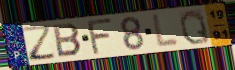8: (119, 16, 146, 52)
B: (52, 22, 84, 59)
F: (86, 16, 115, 56)
L: (152, 12, 181, 49)
Q: (179, 9, 212, 46)
Z: (21, 23, 58, 63)
